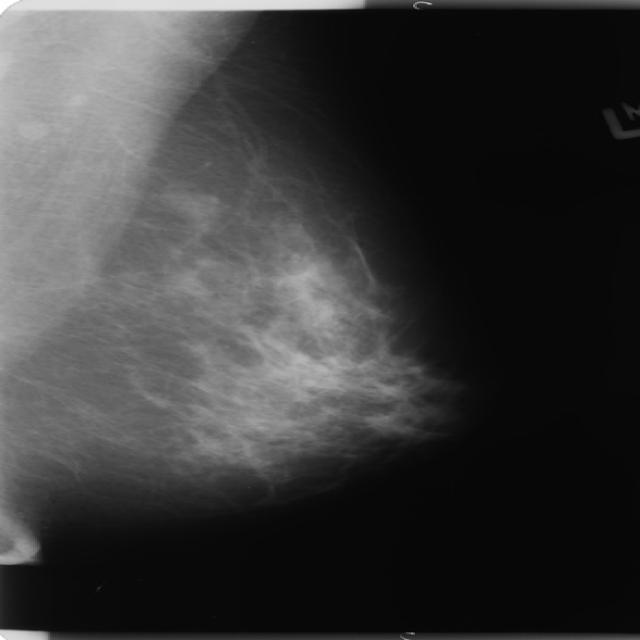tumour: (155, 179, 219, 222)
